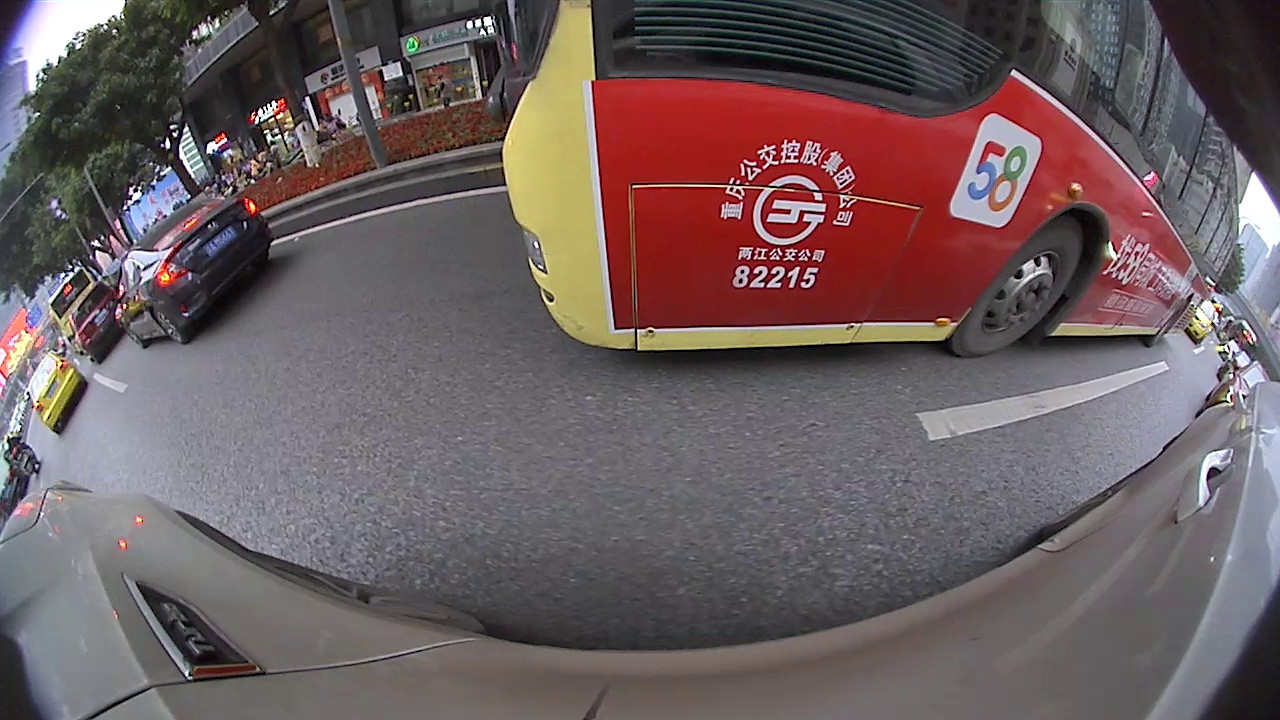bus: (476, 2, 1247, 364)
car: (113, 188, 278, 355), (66, 276, 131, 369), (25, 347, 90, 437)
front: (948, 218, 1092, 361), (120, 326, 150, 350)
rear: (1145, 295, 1195, 350), (146, 310, 192, 348)
